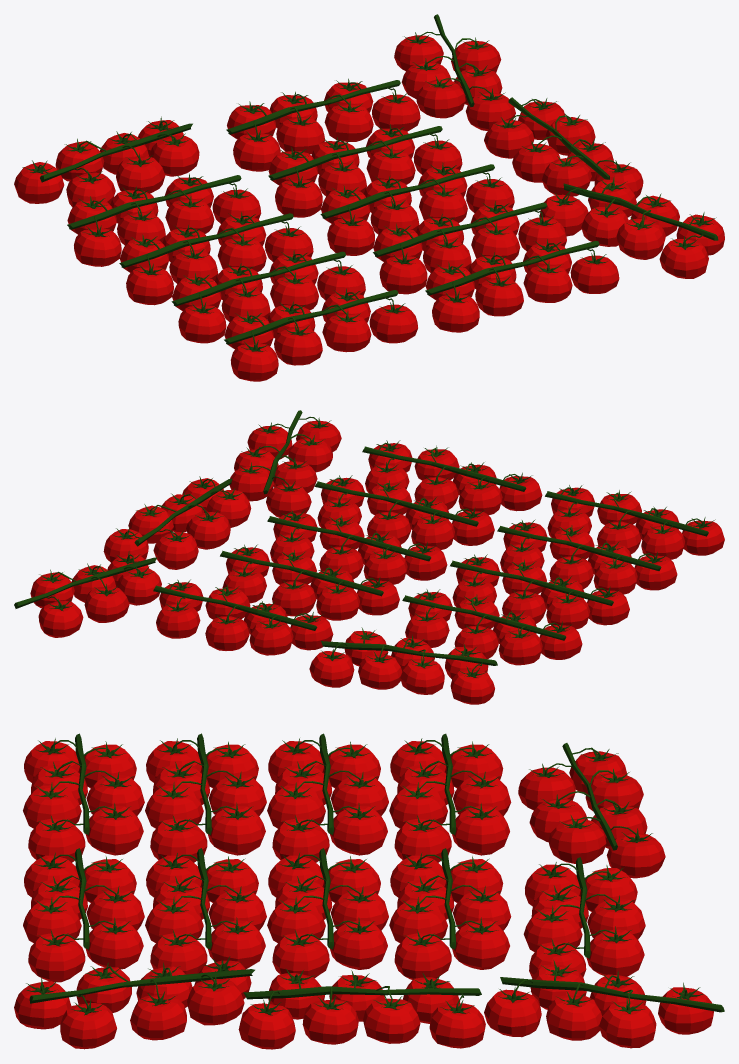
Rendered from FBX_Tomato.fbx.
3 views of the same model, one above another, from view 1: azimuth 30°, elevation 25°; view 2: azimuth 150°, elevation 25°; view 3: azimuth 270°, elevation 25° (orthographic). The views are drawn at different scales.
Parts seen in each view (by area): view 1: M_Tomato; view 2: M_Tomato; view 3: M_Tomato.
Boxes of the visible parts, x1,y1,x2,y2 form: M_Tomato: (14, 14, 724, 381); M_Tomato: (14, 410, 724, 704); M_Tomato: (14, 733, 724, 1049).
Size of the model in its own units: 0.7845 by 0.0693 by 0.809.
